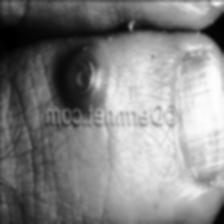Non-Cancerous Skin Condition: (58, 47, 105, 101)
